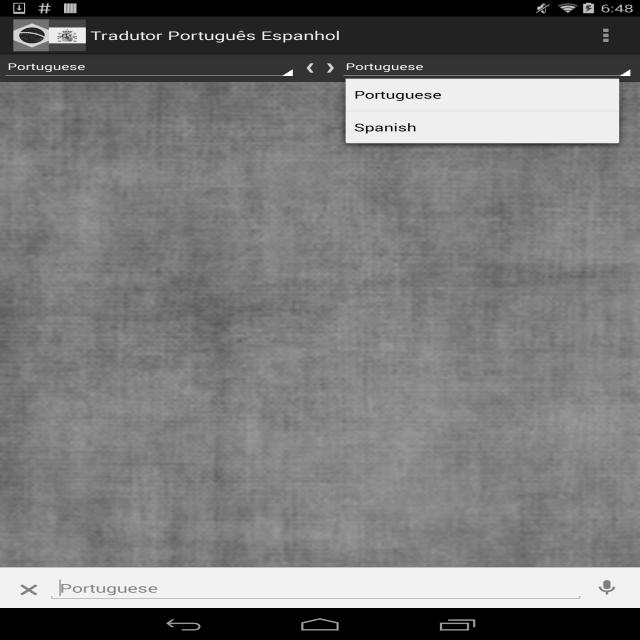EditText: (51, 577, 458, 604), (337, 54, 632, 78), (5, 56, 298, 78)
ImageButton: (592, 574, 620, 596), (12, 582, 48, 598), (599, 23, 617, 48)
ImageView: (9, 17, 86, 51)
TextView: (89, 26, 344, 43), (348, 86, 459, 105), (348, 117, 419, 135)
